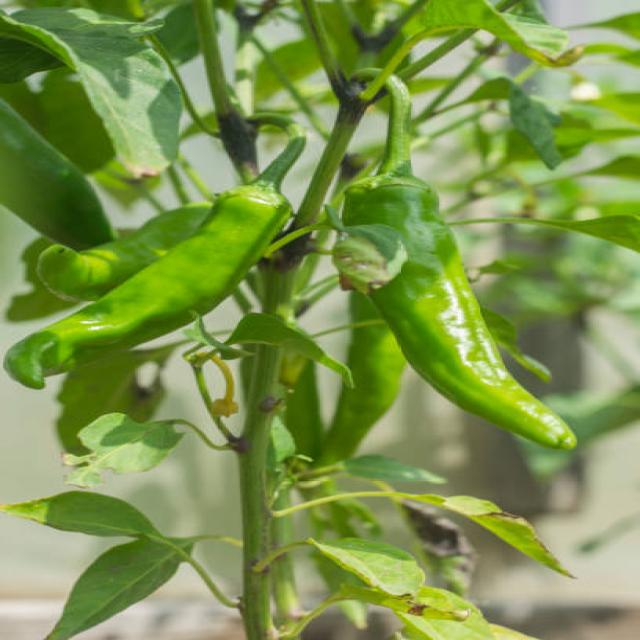Unripe: (344, 176, 574, 448), (5, 186, 289, 388), (298, 300, 418, 481), (38, 203, 210, 300)
